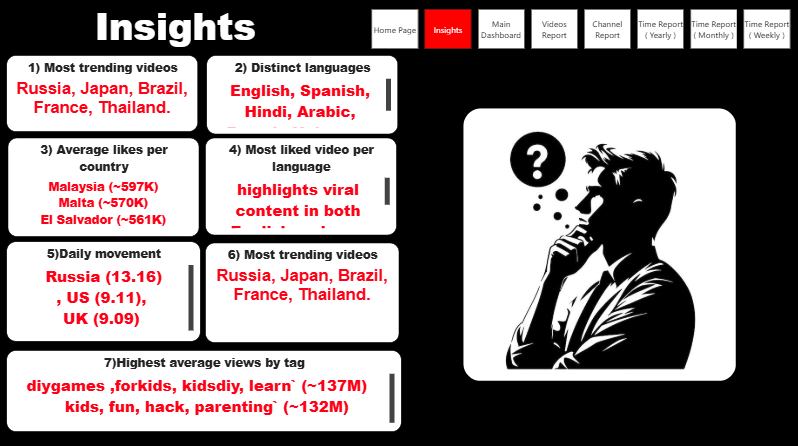

The dashboard page shown, as its layout file describes it:
{"tool":"powerbi","page":{"name":"Insights","canvas":[1280,720],"ordinal":1},"visuals":[{"type":"shape","box":[0,0,1280,720],"z":0},{"type":"textbox","title":"Insights","box":[147.6,0,280,88],"z":1000},{"type":"pageNavigator","box":[595.6,15.6,672,64],"z":2000},{"type":"textbox","title":"1) Most trending videos","box":[12.8,89.2,306,122],"z":3000},{"type":"textbox","title":"3) Average likes per country","box":[14.4,222.4,306,158],"z":4000},{"type":"textbox","title":"2) Distinct languages","box":[331.6,89.2,306,126],"z":5000},{"type":"textbox","title":"6) Most trending videos","box":[329.6,389.2,310,160],"z":6000},{"type":"textbox","title":"4) Most liked video per language","box":[330.4,222.8,306,156],"z":7000},{"type":"textbox","title":"5)Daily movement ","box":[12,388,310,160],"z":8000},{"type":"textbox","title":"7)Highest average views by tag","box":[12,562,631.6,130],"z":9000},{"type":"image","box":[741.2,173.6,438,438],"z":10000}]}

Visuals, with their boxes in screenshot pixels (x1, y1, x2, y2), scaled from the page's 1280x720 canvas onto the 798x446 screenshot:
shape: {"x1": 0, "y1": 0, "x2": 797, "y2": 445}
"Insights" textbox: {"x1": 92, "y1": 0, "x2": 267, "y2": 55}
pageNavigator: {"x1": 371, "y1": 10, "x2": 790, "y2": 49}
"1) Most trending videos" textbox: {"x1": 8, "y1": 55, "x2": 199, "y2": 131}
"3) Average likes per country" textbox: {"x1": 9, "y1": 138, "x2": 200, "y2": 236}
"2) Distinct languages" textbox: {"x1": 207, "y1": 55, "x2": 398, "y2": 133}
"6) Most trending videos" textbox: {"x1": 205, "y1": 241, "x2": 399, "y2": 340}
"4) Most liked video per language" textbox: {"x1": 206, "y1": 138, "x2": 397, "y2": 235}
"5)Daily movement " textbox: {"x1": 7, "y1": 240, "x2": 201, "y2": 339}
"7)Highest average views by tag" textbox: {"x1": 7, "y1": 348, "x2": 401, "y2": 429}
image: {"x1": 462, "y1": 108, "x2": 735, "y2": 379}
